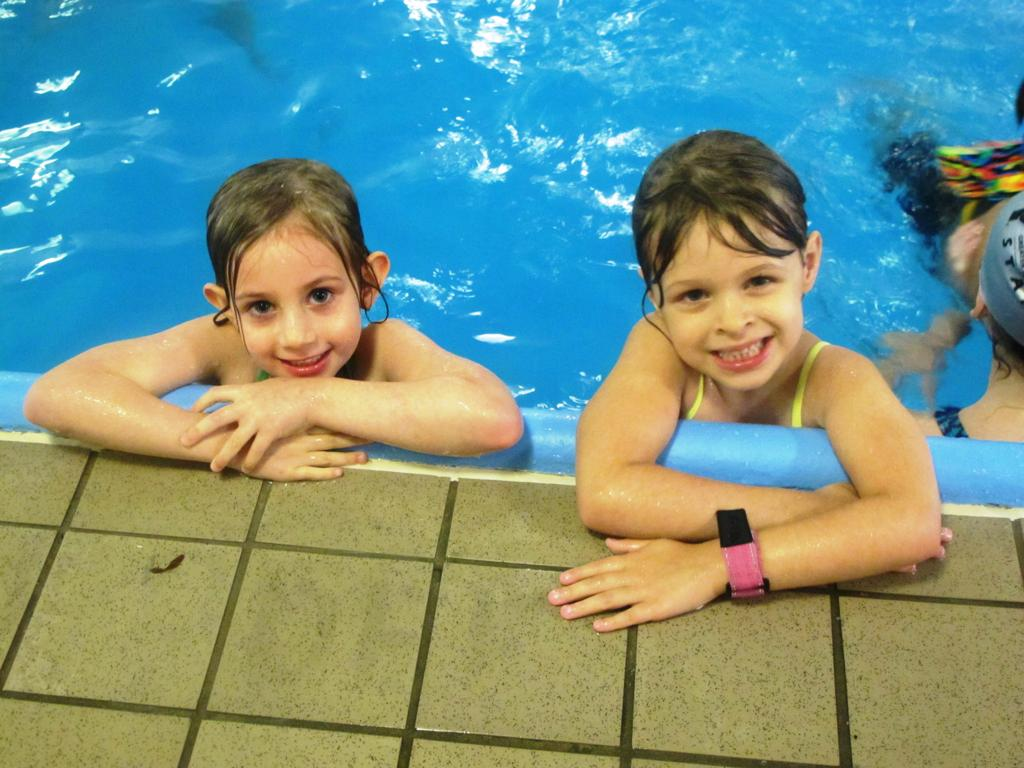face: (658, 212, 800, 392), (232, 234, 366, 382)
